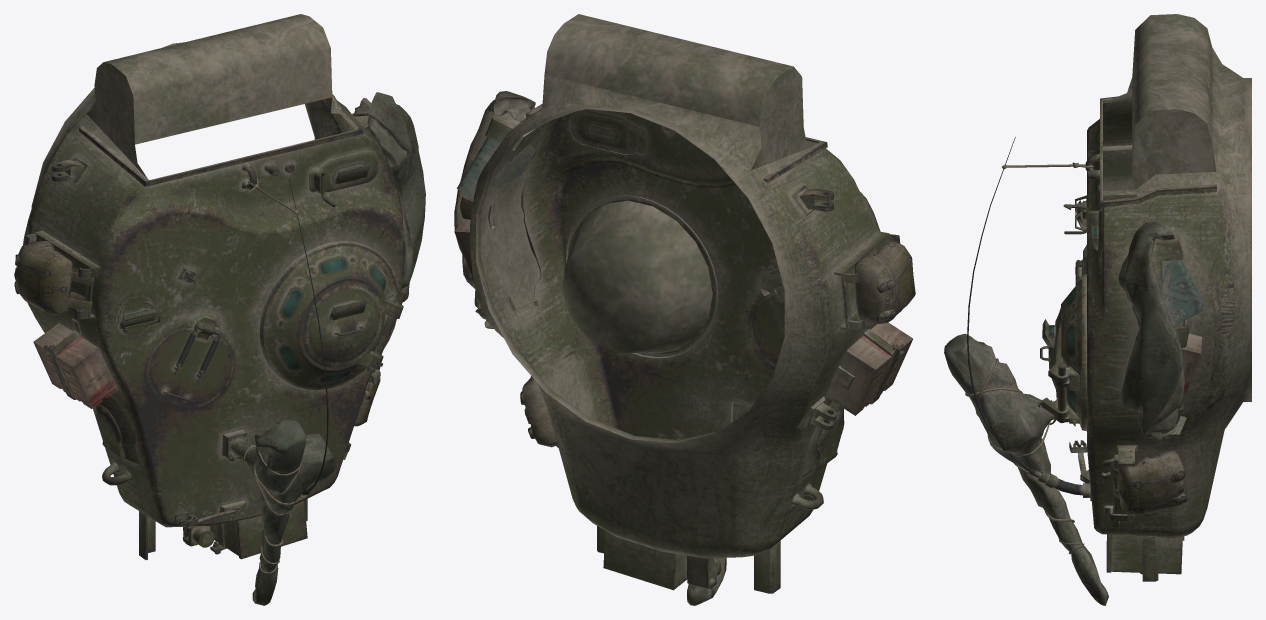
The model's file is Turret_01.glb.
The picture shows the model from 3 angles, left to right: view 1: azimuth 30°, elevation 25°; view 2: azimuth 150°, elevation 25°; view 3: azimuth 270°, elevation 25°; orthographic projection. The views are drawn at different scales.
Parts seen in each view (by area): view 1: set_0_group_0; view 2: set_0_group_0; view 3: set_0_group_0.
Boxes of the visible parts, left/top/right/bottom form: set_0_group_0: left=14, top=14, right=425, bottom=605; set_0_group_0: left=454, top=14, right=915, bottom=605; set_0_group_0: left=944, top=14, right=1251, bottom=605.
Bounding box in the file's own units: 2.78 × 3.6 × 1.87.
1 material, 1 textured.
